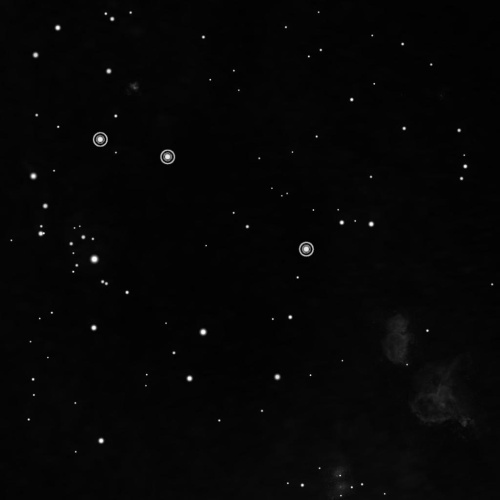vulpecula: (90, 125, 318, 261)
